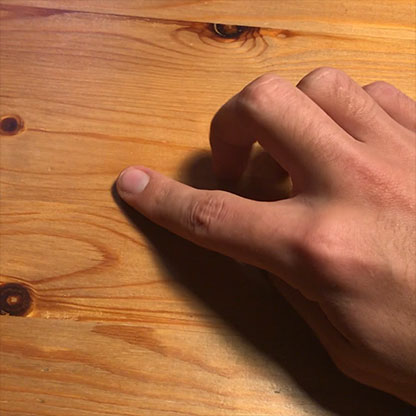fingertip: (110, 151, 153, 210)
